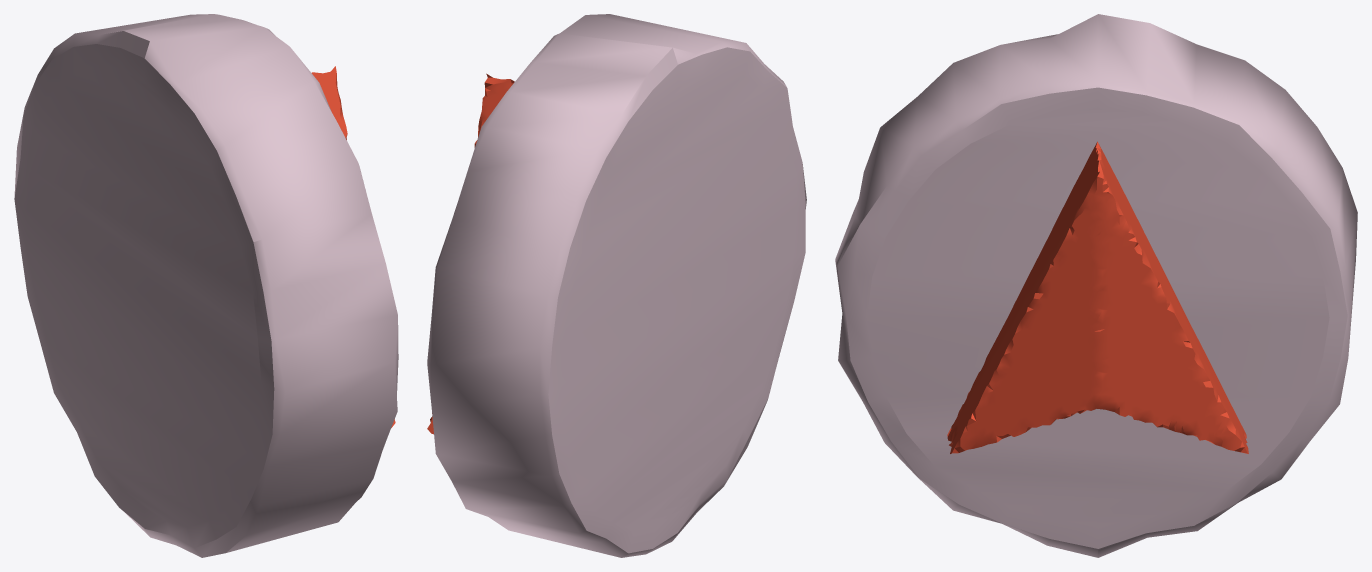
File: sign.glb
3 views of the same model, side by side, from view 1: azimuth 30°, elevation 25°; view 2: azimuth 150°, elevation 25°; view 3: azimuth 270°, elevation 25° (orthographic). The views are drawn at different scales.
Parts seen in each view (by area): view 1: Cylinder.001, Cylinder; view 2: Cylinder.001, Cylinder; view 3: Cylinder.001, Cylinder.
Part boxes in pixels (x1,y1,x2,y2): Cylinder.001: (14,14,398,557); Cylinder: (312,66,395,427); Cylinder.001: (427,14,806,557); Cylinder: (427,73,514,434); Cylinder.001: (835,14,1357,557); Cylinder: (947,141,1248,453).
Size of the model in its own units: 0.8709 by 2.09 by 2.03.
